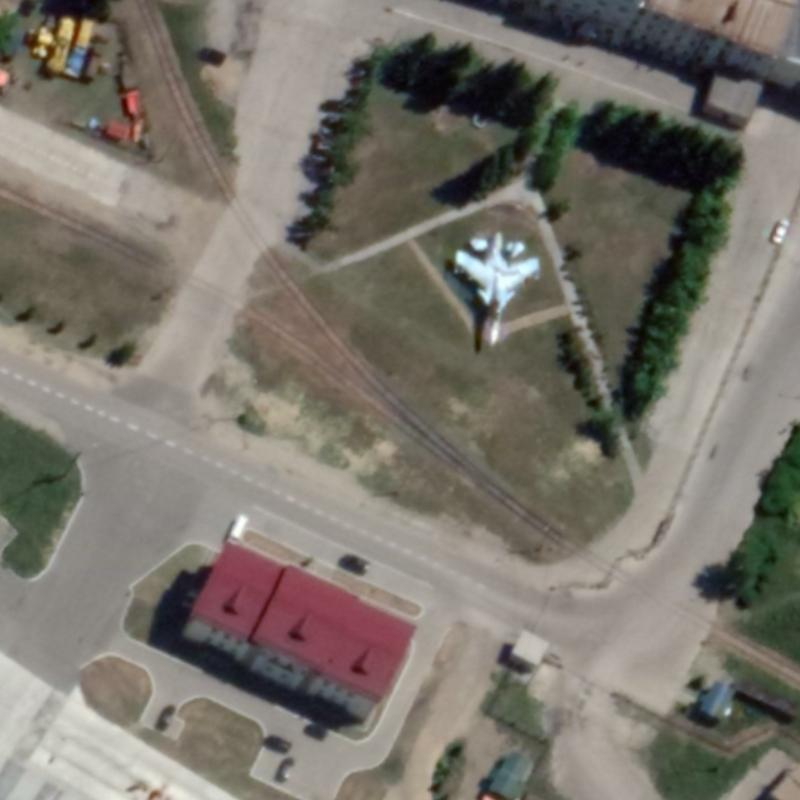A19: (448, 228, 542, 350)
